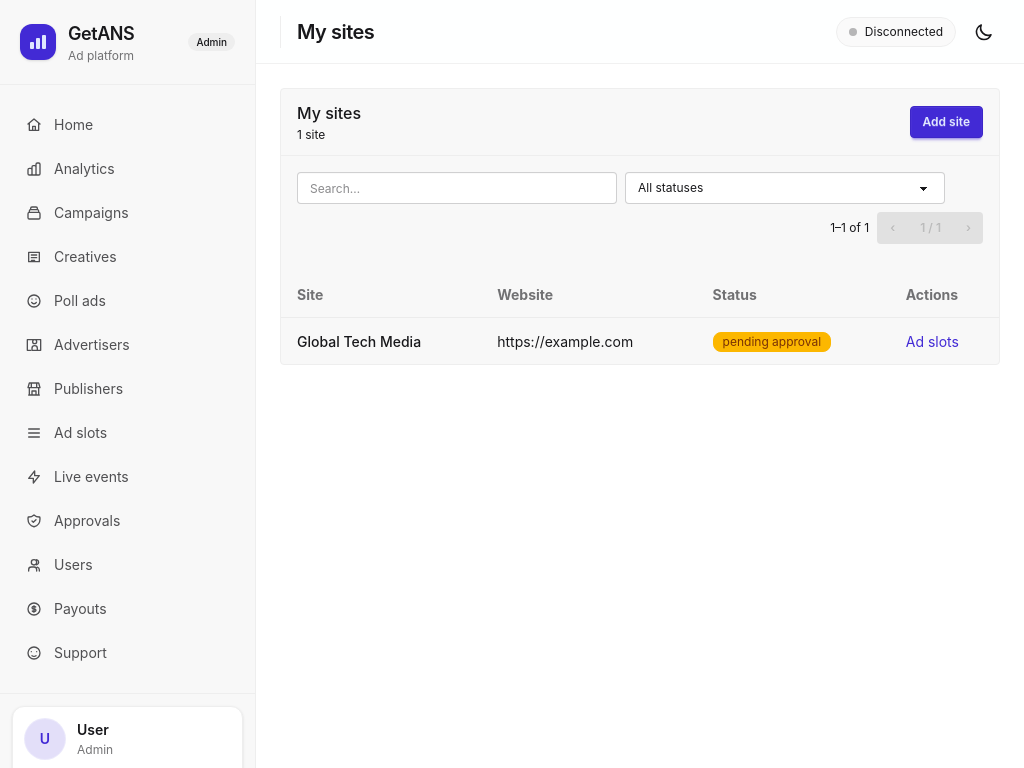
Scenario: create publisher modal › sends null for blank optional fields, then closes and reloads
The image size is (1024, 768).
Expected: the text "Global Tech Media" is shown, [281,318,481,364]
Click the button "Add site" at (946, 122), box [910,106,983,138]
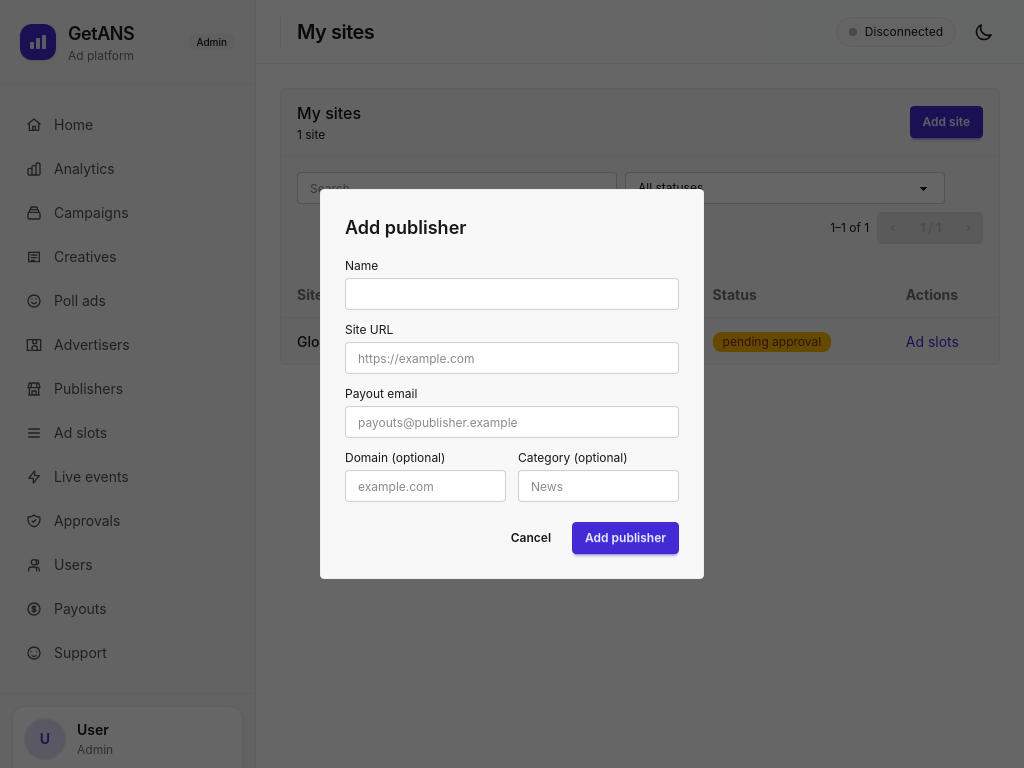
Type "New Site" into the field labelled "Name" at (512, 294), box [345,278,679,310]
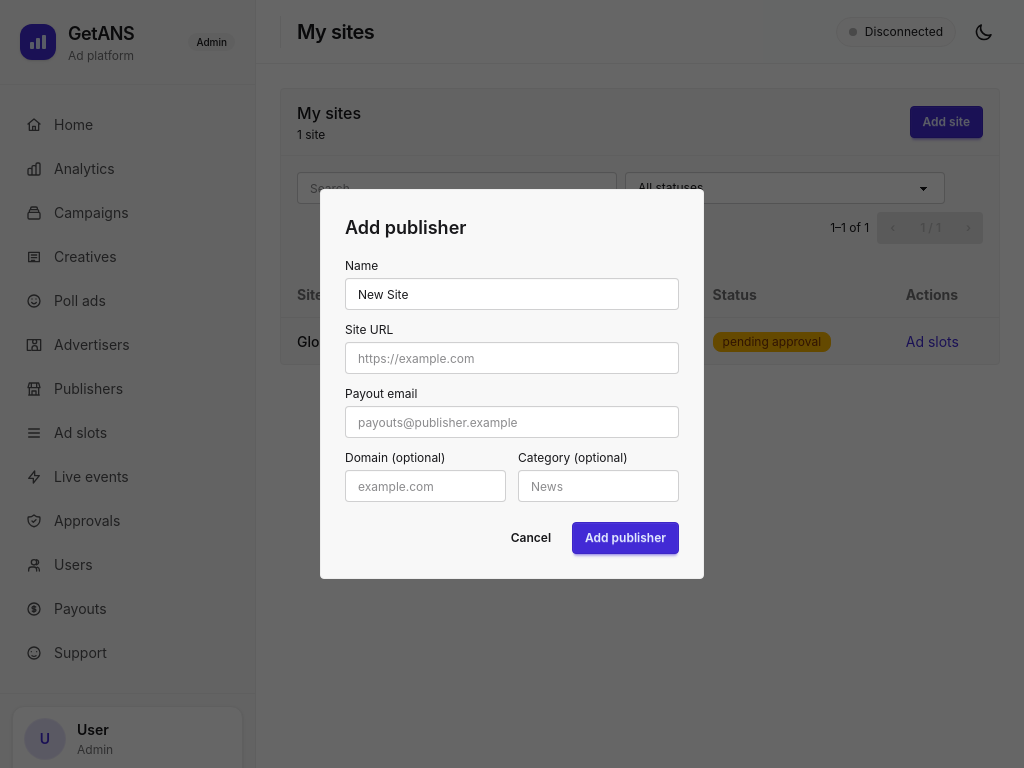
Type "https://new.example.com" into the field labelled "Site URL" at (512, 358), box [345,342,679,374]
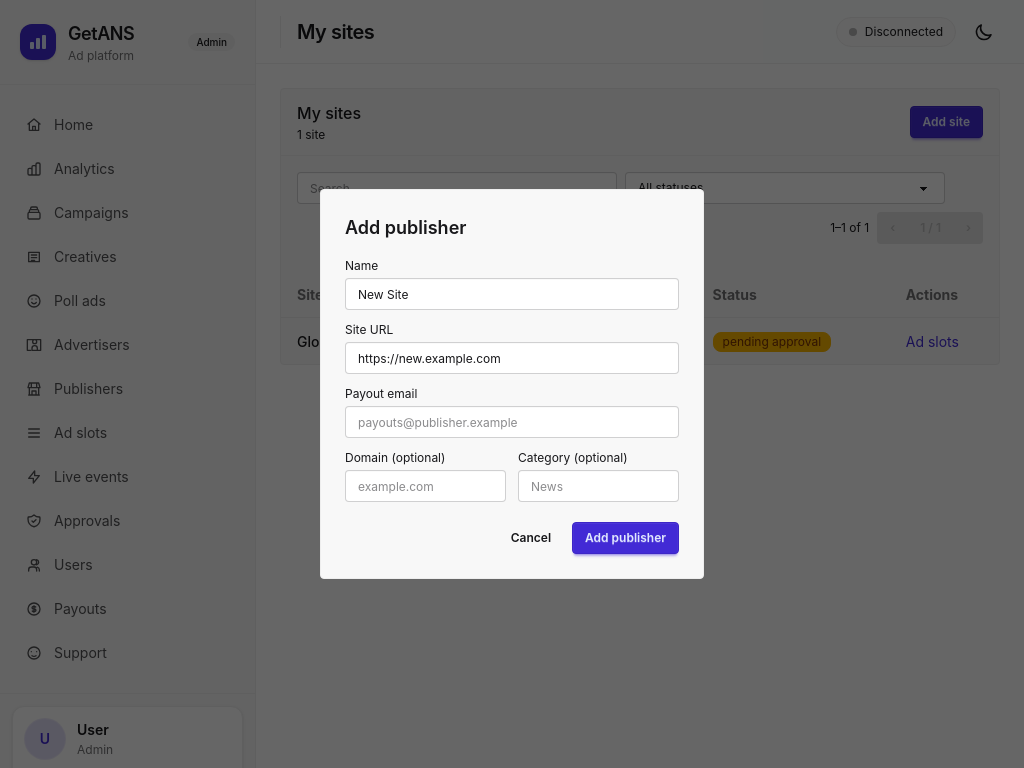
Type "money@new.example.com" into the field labelled "Payout email" at (512, 422), box [345,406,679,438]
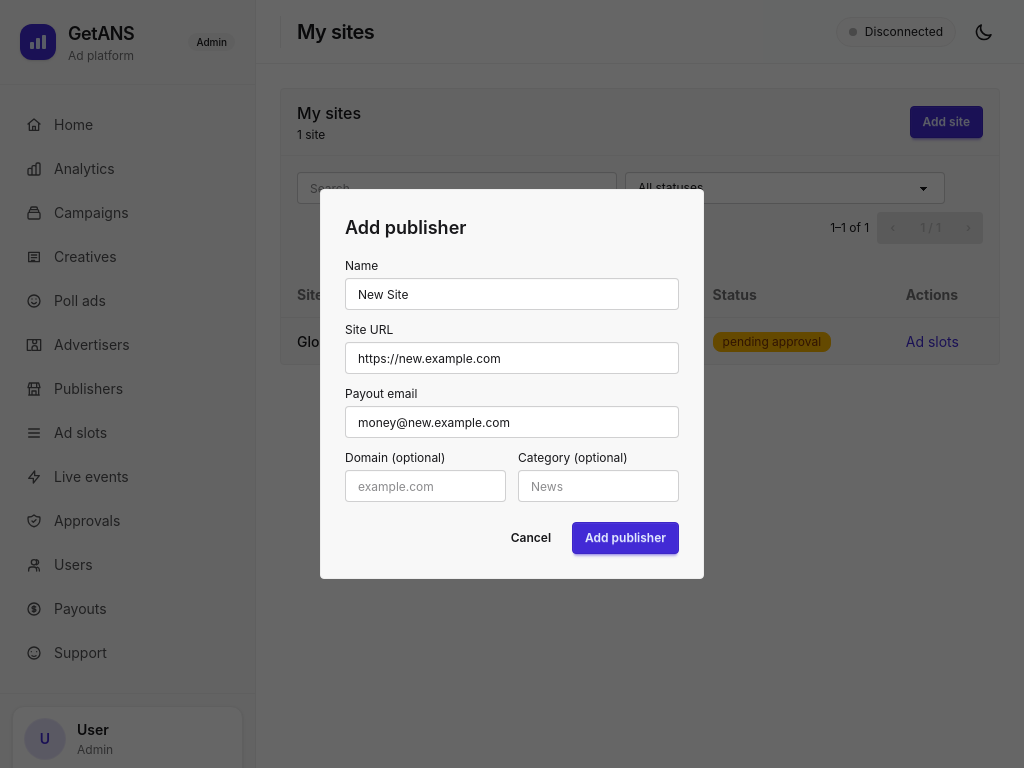
Submit the form named "Add publisher", box [345,258,679,554]
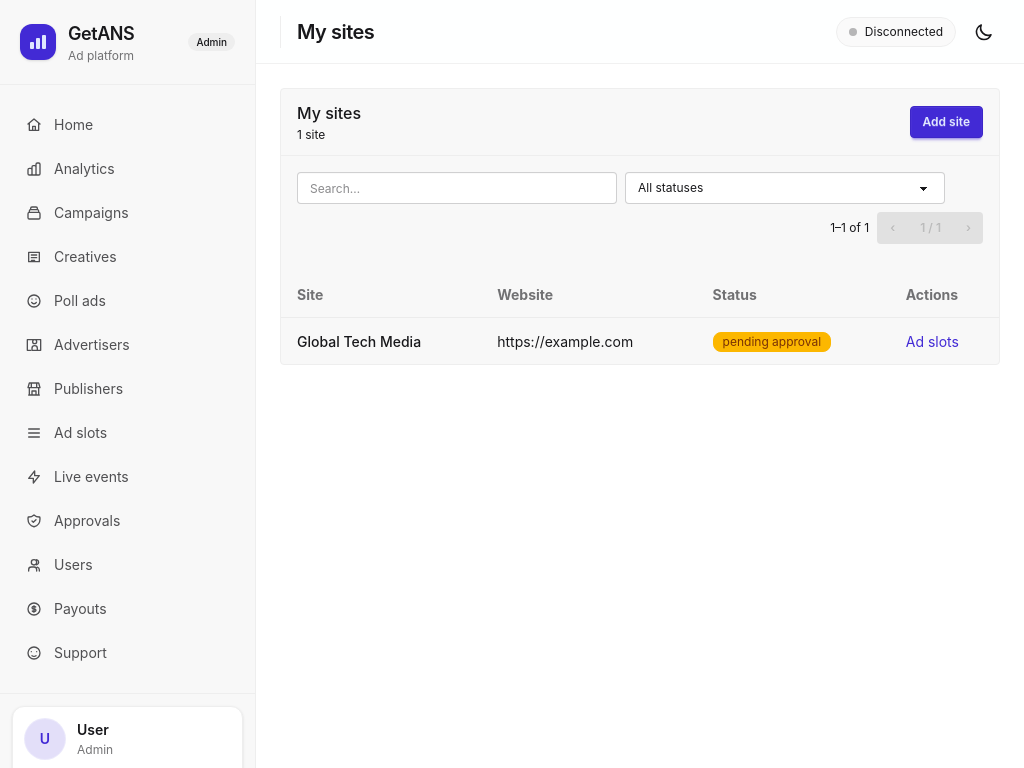
Expected: the heading "Add publisher" is gone
